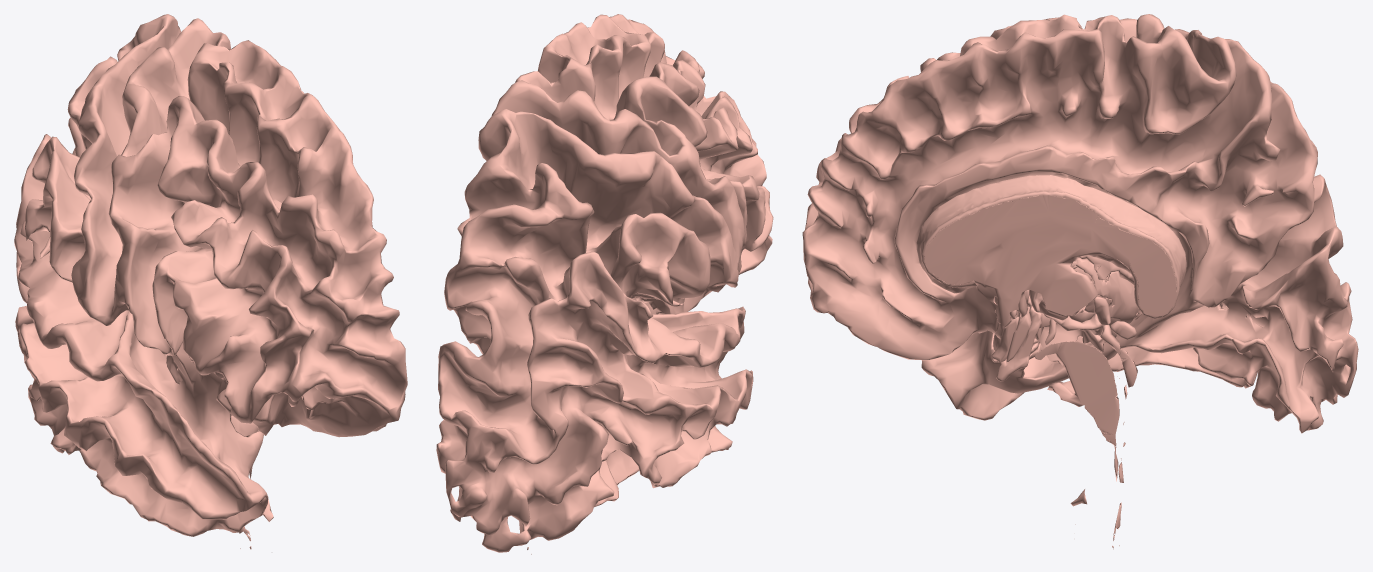
Rendered from female-a-organ-1.glb.
The picture shows the model from 3 angles, left to right: view 1: azimuth 30°, elevation 25°; view 2: azimuth 150°, elevation 25°; view 3: azimuth 270°, elevation 25°; orthographic projection. The views are drawn at different scales.
Visible parts, largest first — view 1: Allen_white_matter_of_forebrain_L; view 2: Allen_white_matter_of_forebrain_L; view 3: Allen_white_matter_of_forebrain_L, Allen_corpus_callosum_L, Allen_thalamus_L, Allen_tuberal_region_of_HTH_L.
Boxes of the visible parts, left/top/right/bottom form: Allen_white_matter_of_forebrain_L: left=14, top=14, right=407, bottom=549; Allen_white_matter_of_forebrain_L: left=436, top=14, right=773, bottom=554; Allen_white_matter_of_forebrain_L: left=802, top=14, right=1358, bottom=549; Allen_corpus_callosum_L: left=916, top=175, right=1186, bottom=318; Allen_thalamus_L: left=1029, top=259, right=1138, bottom=334; Allen_tuberal_region_of_HTH_L: left=996, top=306, right=1041, bottom=381.
Bounding box in the file's own units: 0.0578 × 0.132 × 0.1273.
